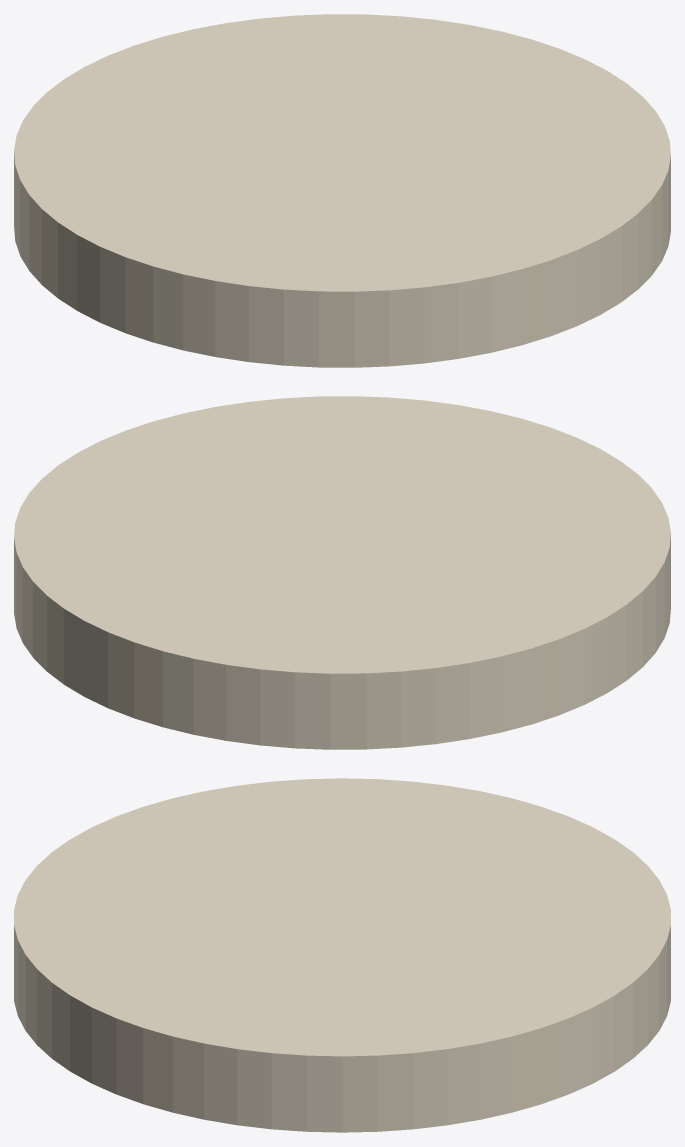
The model's file is oil-pressure-carrier.glb.
3 views of the same model, one above another, from view 1: azimuth 30°, elevation 25°; view 2: azimuth 150°, elevation 25°; view 3: azimuth 270°, elevation 25° (orthographic).
Parts seen in each view (by area): view 1: world; view 2: world; view 3: world.
Part boxes in pixels (x1,y1,x2,y2): world: [14, 14, 670, 367]; world: [14, 396, 670, 749]; world: [14, 778, 670, 1132].
Size of the model in its own units: 0.018 by 0.0023 by 0.018.
